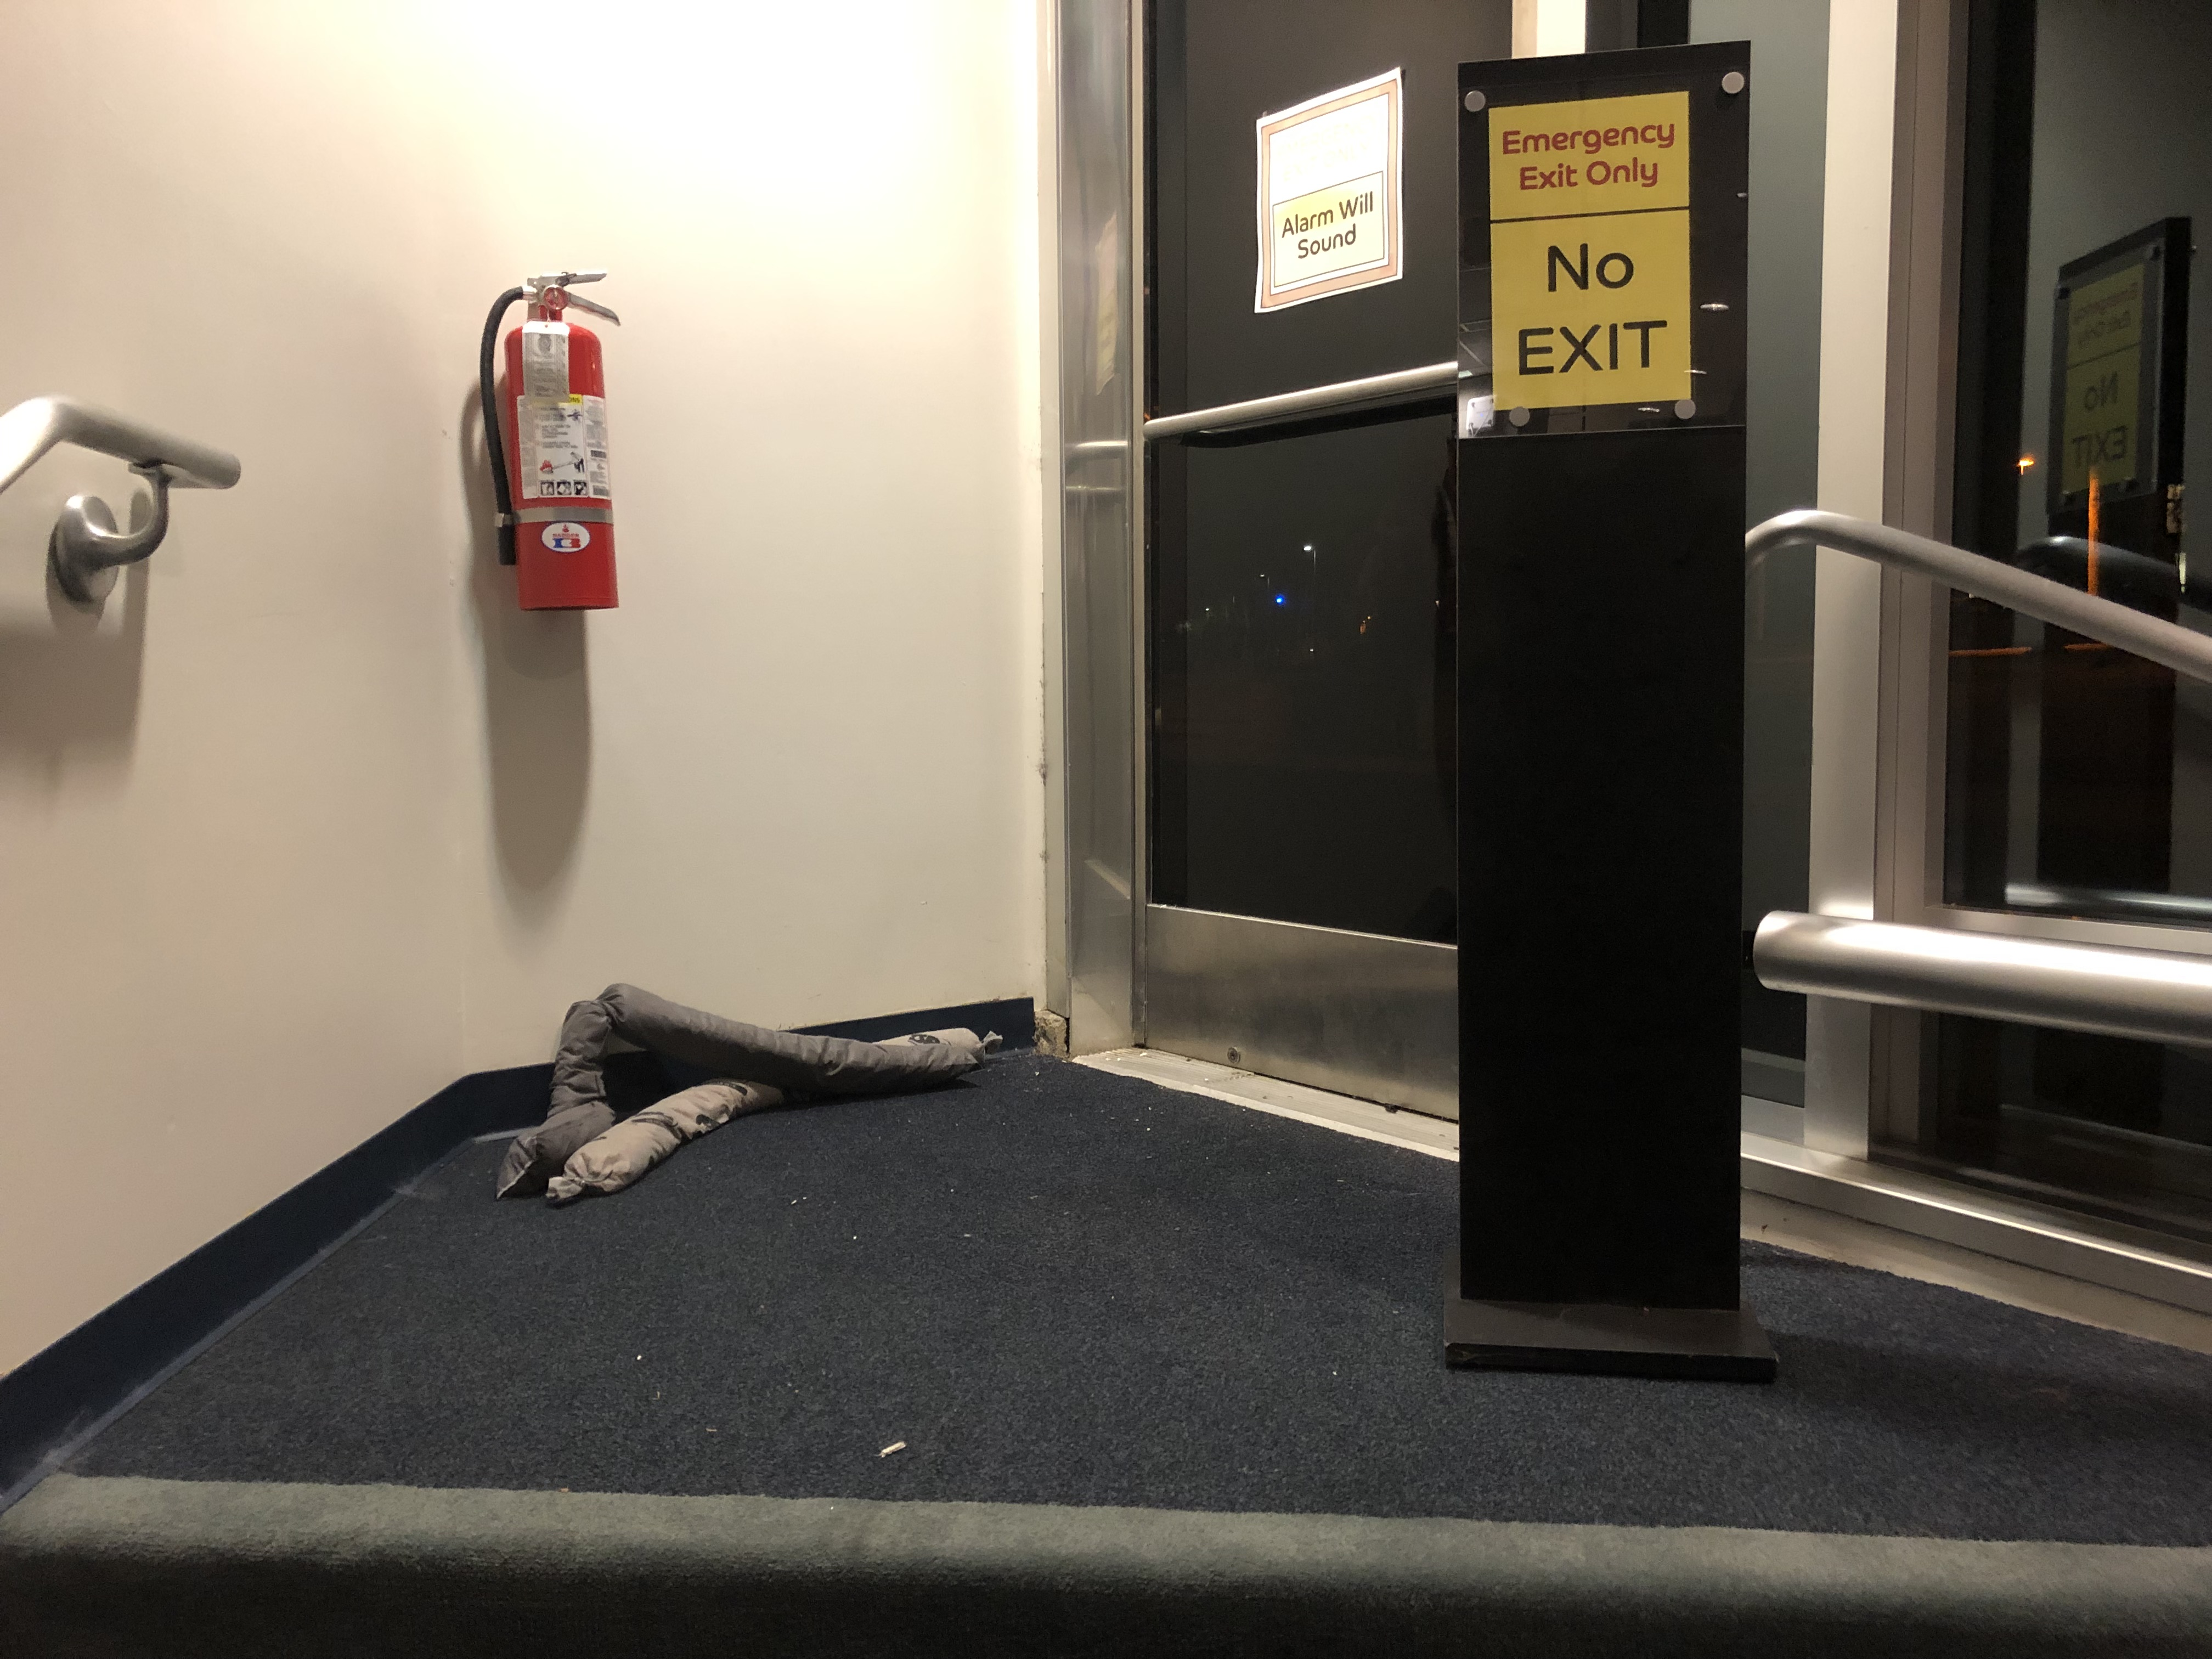Edge: (26, 1495, 2207, 1635)
Obstacle: (0, 5, 2202, 1480), (1454, 64, 1782, 1373), (512, 1000, 1012, 1183)
